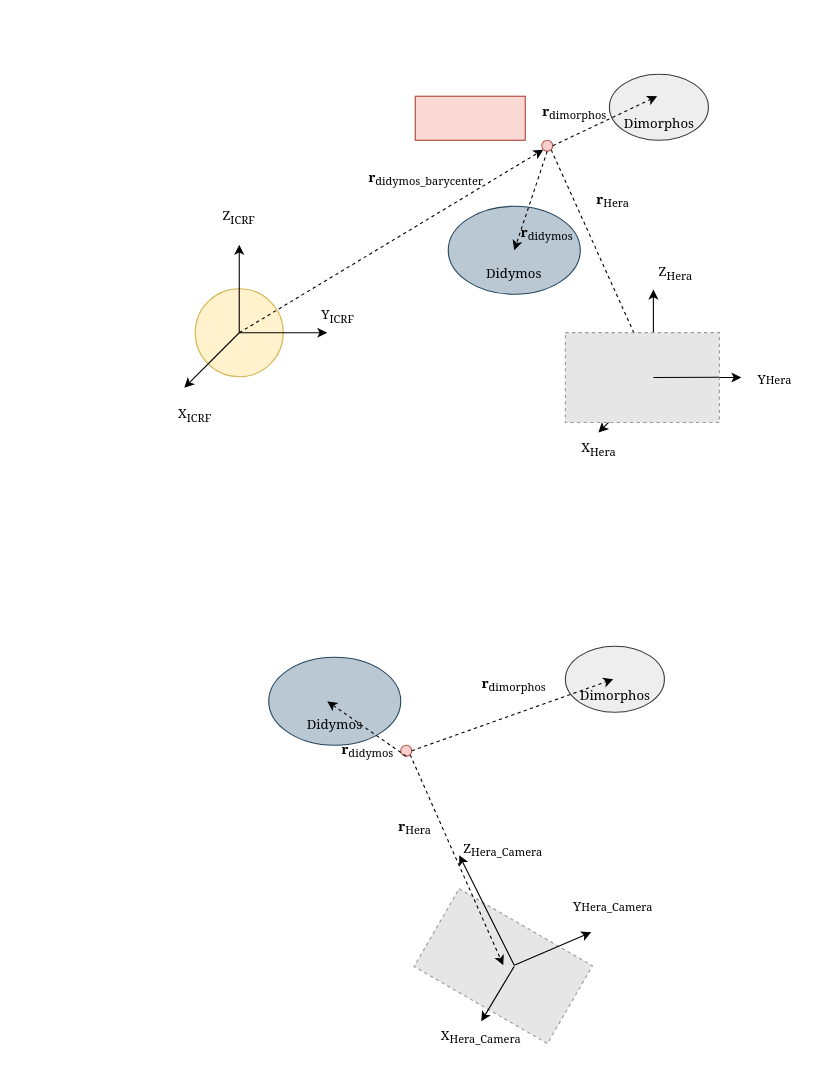
Image size: 826x1073. Some labels were removed from this diagram. Grey dashed boxes stand in for pictures. Each missing label, with the centre of its shape:
Didymos Barycenter: [469,117]
Sun: [238,332]
